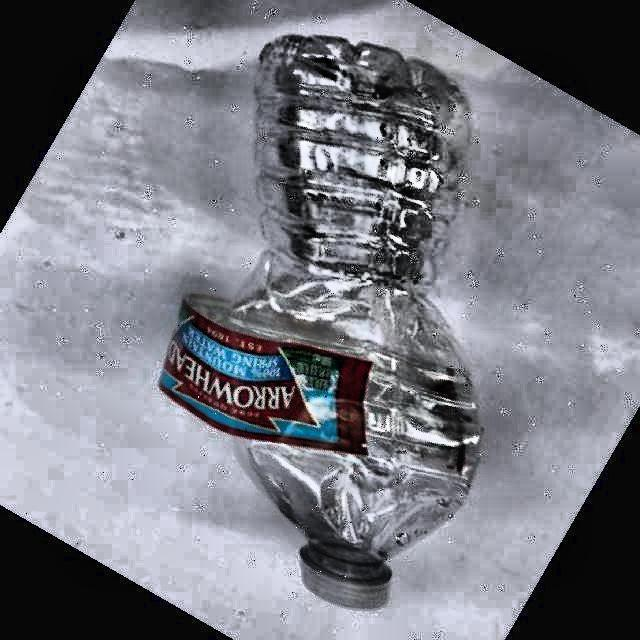plastic: (160, 35, 482, 608)
